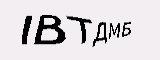В: (42, 22, 56, 39)
Ж: (73, 17, 89, 41)
С: (103, 15, 122, 39)
Т: (90, 18, 104, 37)
Ч: (55, 19, 71, 39)
